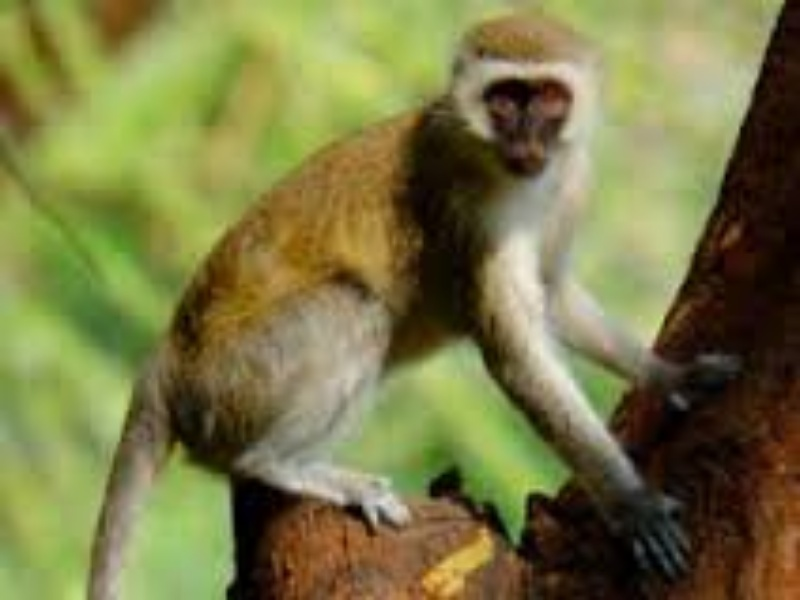monkey: (120, 12, 762, 520)
